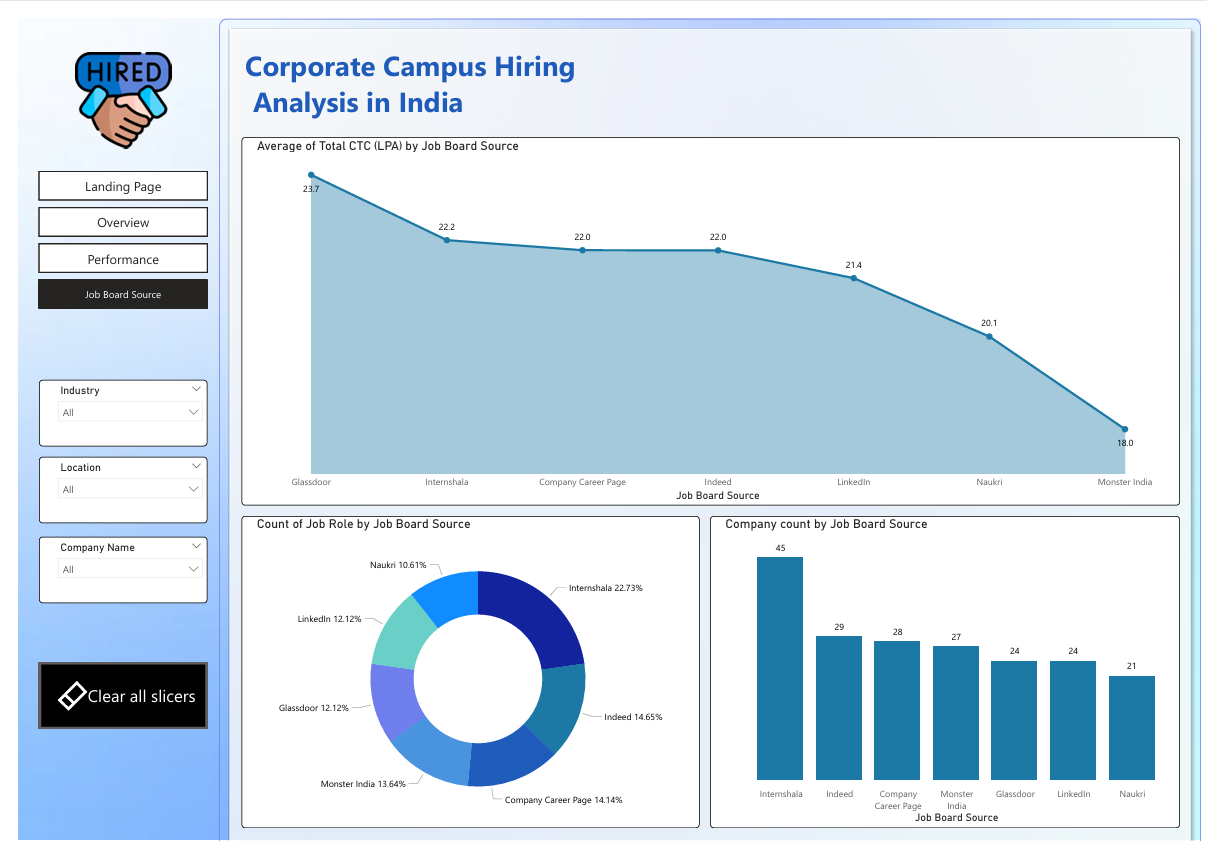

This screenshot's page, from the dashboard's own definition file:
{"tool":"powerbi","page":{"name":"Job Board Source","canvas":[1600,1111],"ordinal":6},"visuals":[{"type":"shape","box":[272,0,1328,1400],"z":0},{"type":"areaChart","fields":{"Y":["Avg(Sheet1.Total CTC (LPA))"],"Category":["Sheet1.Job Board Source"]},"box":[302,160,1270,498],"z":1000},{"type":"columnChart","title":"Company count by Job Board Source","fields":{"Category":["Sheet1.Job Board Source"],"Y":["CountNonNull(Sheet1.Company Name)"]},"box":[936,672,636,422],"z":2000},{"type":"donutChart","fields":{"Category":["Sheet1.Job Board Source"],"Y":["CountNonNull(Sheet1.Job Role)"]},"box":[302,672,620,422],"z":3000},{"type":"textbox","box":[302,32,662,128],"z":4000},{"type":"pageNavigator","box":[28,206,228,186],"z":5000},{"type":"image","box":[28,40,228,140],"z":6000},{"type":"slicer","fields":{"Values":["Sheet1.Industry"]},"box":[28,488,228,90],"z":7000},{"type":"slicer","fields":{"Values":["Sheet1.Location"]},"box":[28,592,228,90],"z":8000},{"type":"slicer","fields":{"Values":["Sheet1.Company Name"]},"box":[28,700,228,90],"z":9000},{"type":"actionButton","box":[28,870,228,90],"z":10000}]}

Visuals, with their boxes on the page's 1600x1111 design canvas (x1, y1, x2, y2). These are canvas units, not pixel positions in the 1207x859 screenshot, which may show the page scaled, cropped or inside an application window:
shape: <box>272,0,1600,1400</box>
areaChart - Avg(Sheet1.Total CTC (LPA)) x Sheet1.Job Board Source: <box>302,160,1572,658</box>
"Company count by Job Board Source" columnChart: <box>936,672,1572,1094</box>
donutChart - Sheet1.Job Board Source x CountNonNull(Sheet1.Job Role): <box>302,672,922,1094</box>
textbox: <box>302,32,964,160</box>
pageNavigator: <box>28,206,256,392</box>
image: <box>28,40,256,180</box>
slicer - Sheet1.Industry: <box>28,488,256,578</box>
slicer - Sheet1.Location: <box>28,592,256,682</box>
slicer - Sheet1.Company Name: <box>28,700,256,790</box>
actionButton: <box>28,870,256,960</box>
